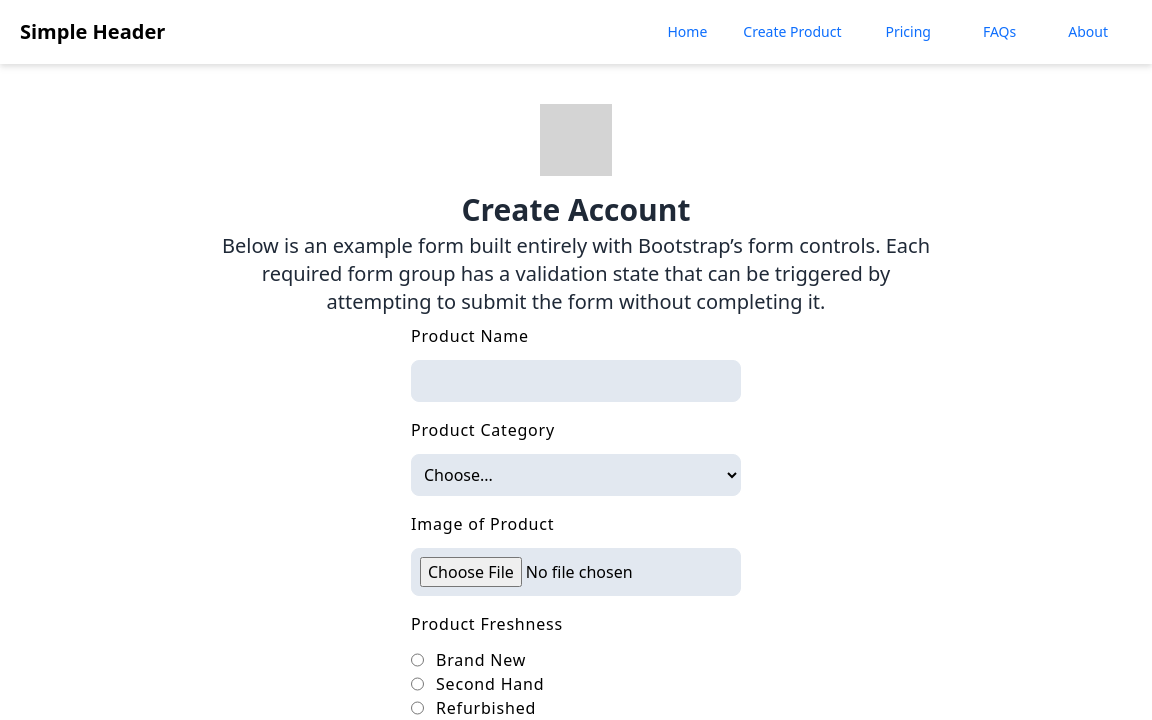
Index Product Page › Action for Product › Product Name Exceed 25 Characters
Type "This Product Name Have Exceeded Characters Required" into the field named "input-product-name" at (576,381), box x1=411 y1=360 x2=741 y2=402
(page scrolled)
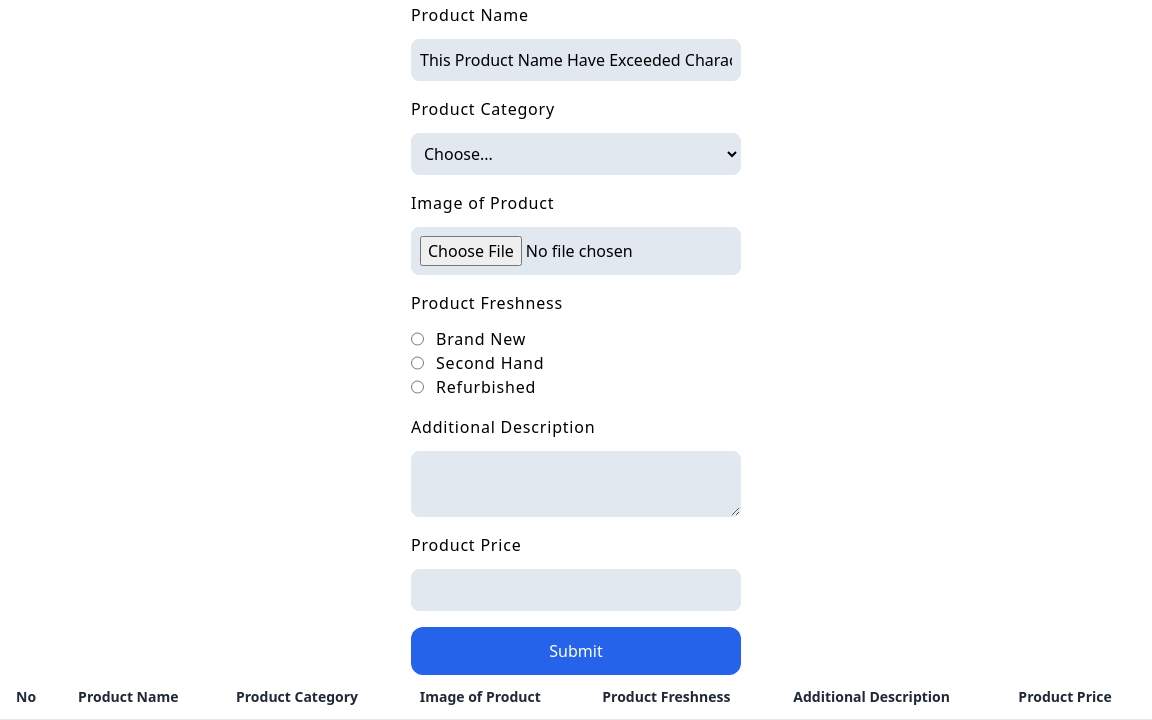
Click the button with aria-label "btn-submit" at (576,651), box x1=411 y1=627 x2=741 y2=675
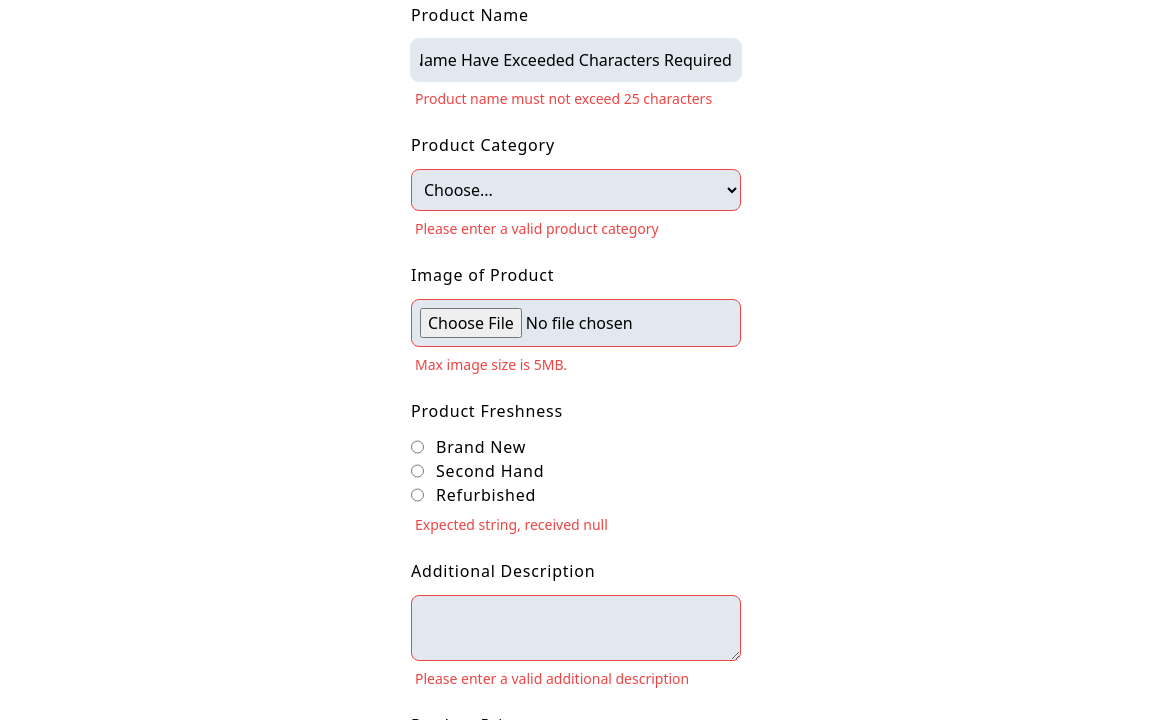
Expected: the text "Product name must not exceed 25 characters" is shown, x1=415 y1=89 x2=712 y2=109
